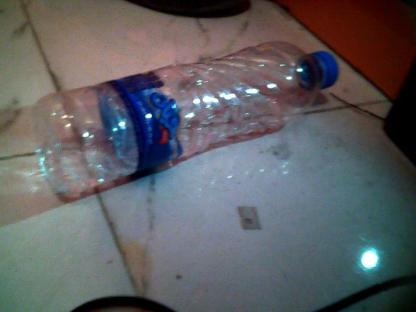Plastic Bottle: (25, 28, 341, 206)
